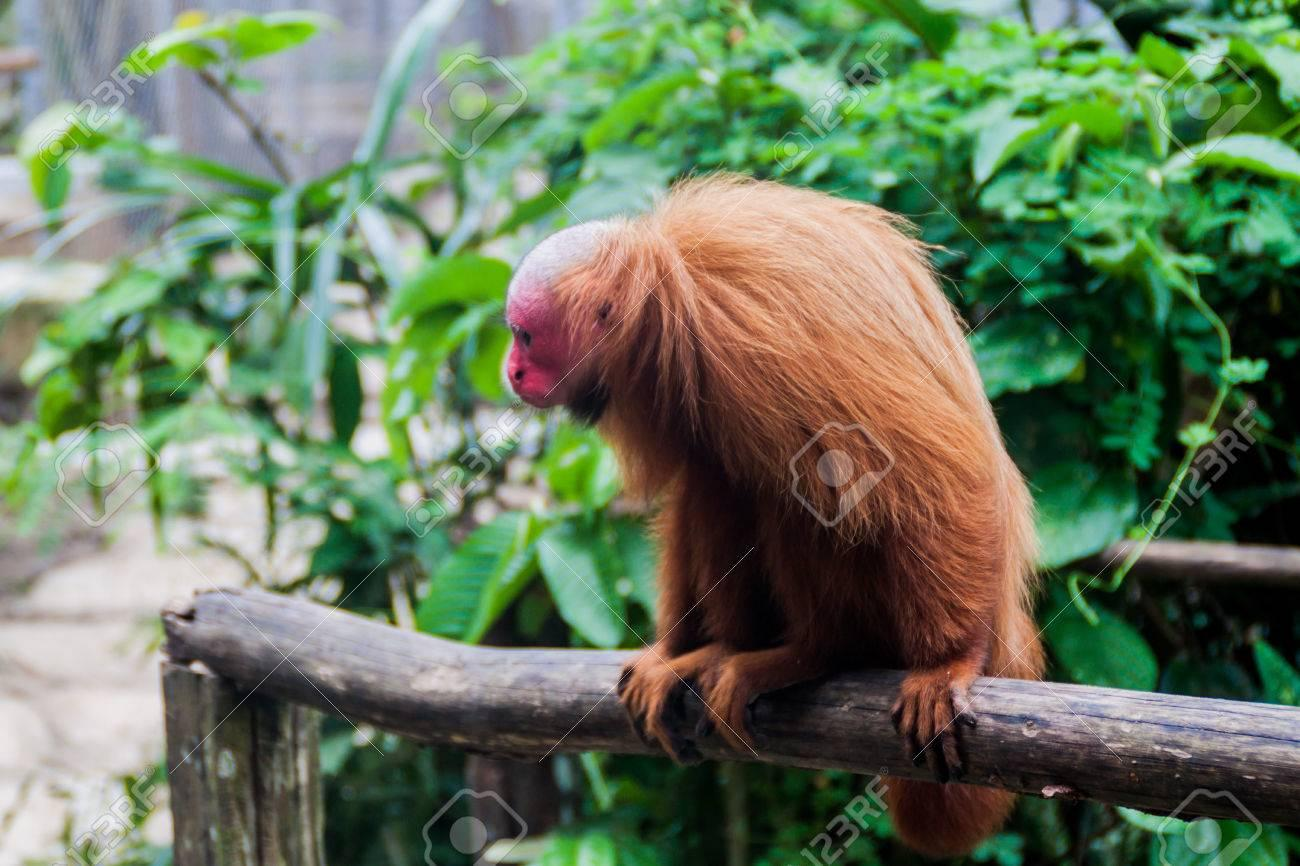monkey: (501, 172, 1051, 862)
